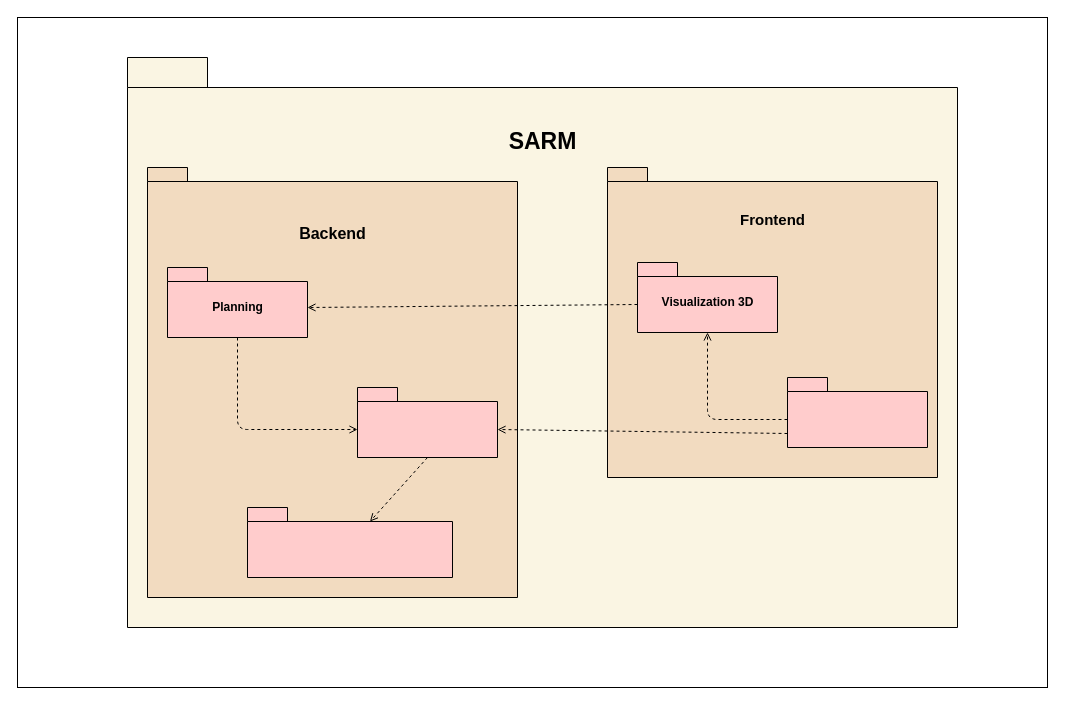
This 1065x705 diagram has some shape labels left out. Each missing label, with the centre of its shape:
"ManagementCore" goes at (x=427, y=422).
"MedicalRecordManagement" goes at (x=349, y=542).
"Web SPA" goes at (x=857, y=412).
